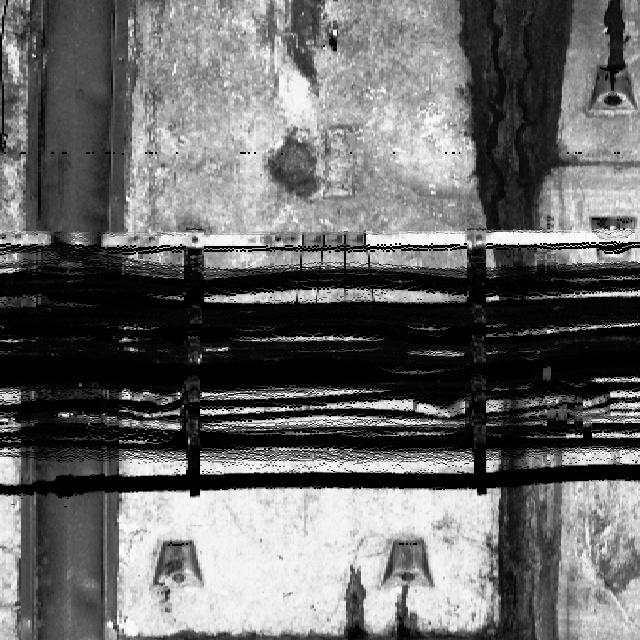leakage: (457, 0, 574, 262), (491, 393, 574, 639), (337, 559, 370, 639), (596, 0, 631, 71), (386, 581, 430, 634)
